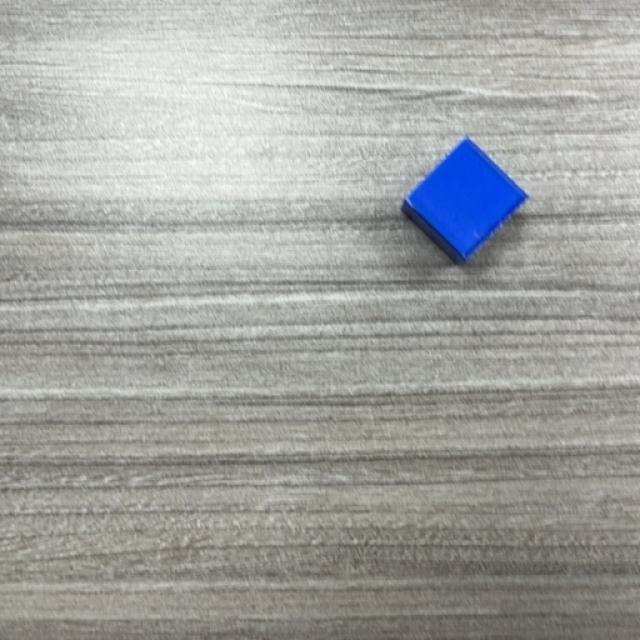Azul: (400, 139, 530, 268)
